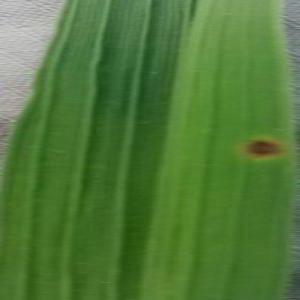0 BrownSpot: (233, 124, 293, 172)
